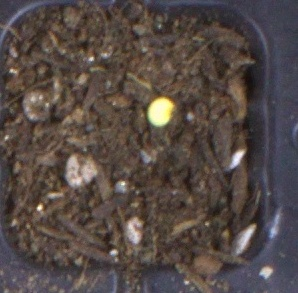chilli seed: (146, 97, 176, 127)
